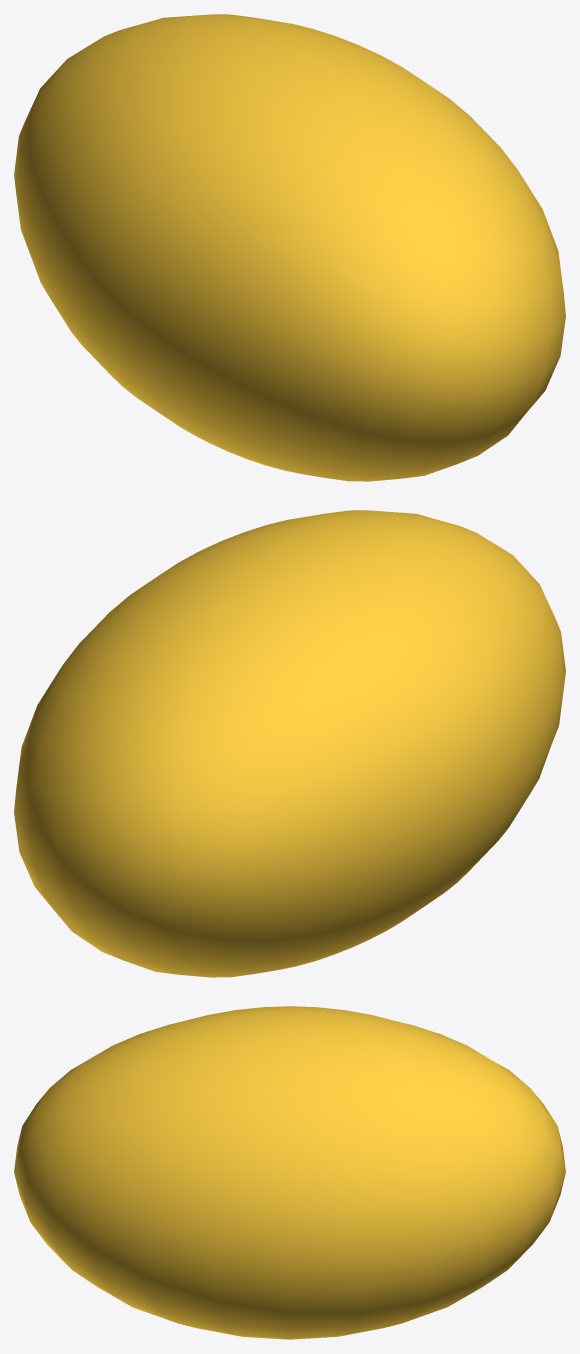
File: Jellybean.fbx
The picture shows the model from 3 angles, top to bottom: view 1: azimuth 30°, elevation 25°; view 2: azimuth 150°, elevation 25°; view 3: azimuth 270°, elevation 25°; orthographic projection. The views are drawn at different scales.
Visible parts, largest first — view 1: Sphere001; view 2: Sphere001; view 3: Sphere001.
Boxes of the visible parts, x1=… form: Sphere001: x1=14, y1=14, x2=565, y2=481; Sphere001: x1=14, y1=510, x2=565, y2=977; Sphere001: x1=14, y1=1006, x2=565, y2=1339.
Size of the model in its own units: 6.68 by 5.78 by 10.25.
